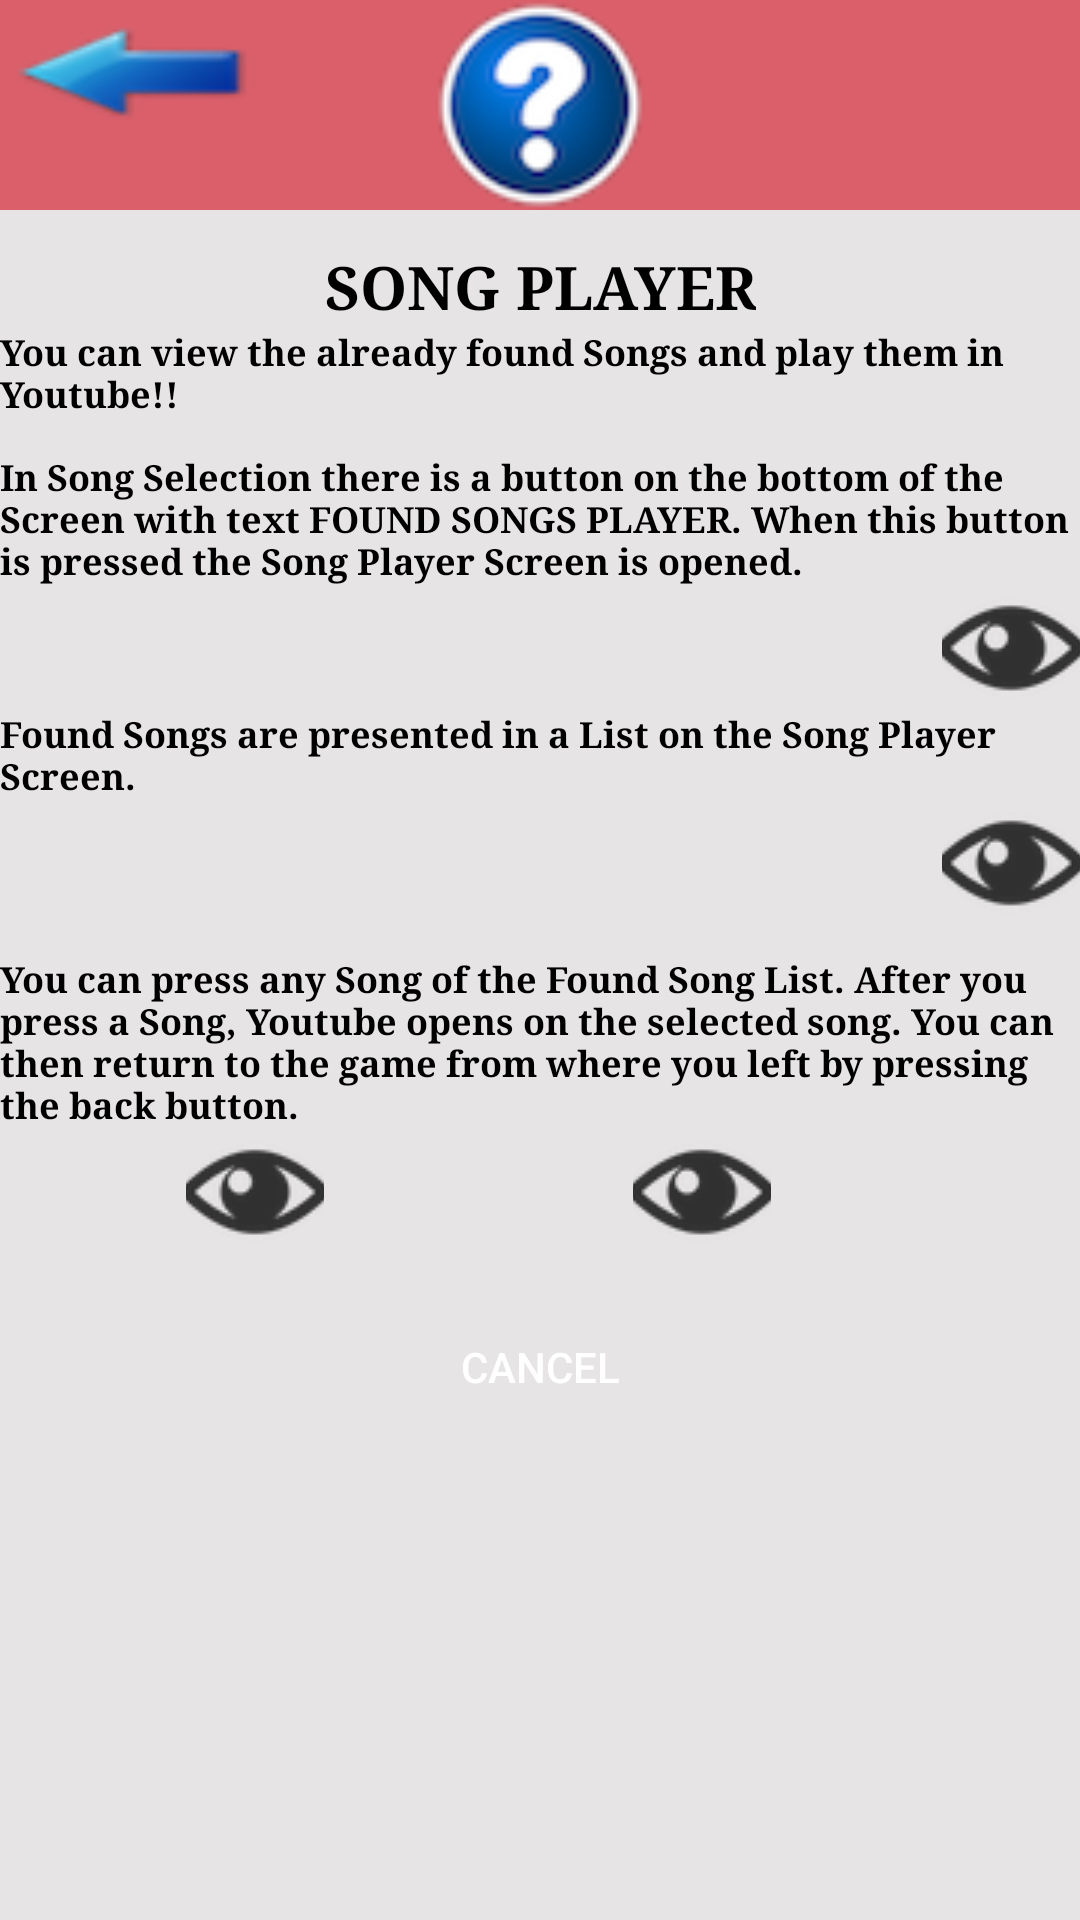

Icon bounding boxes for this 1080w x 1920h phone screenshot, format BBox(x1, y1, x2, y2):
eye: BBox(942, 605, 1080, 691), BBox(942, 820, 1080, 906), BBox(186, 1149, 324, 1235), BBox(633, 1149, 771, 1235)
